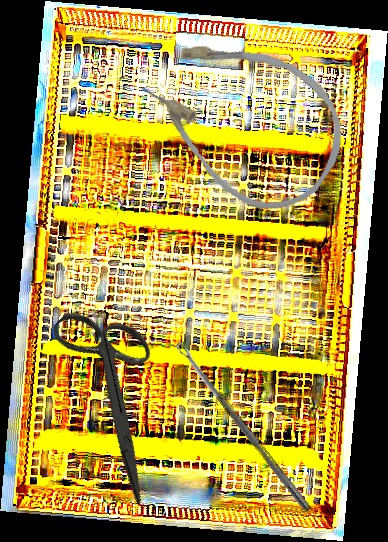Cannula: (120, 2, 368, 233)
Iris Scissors: (2, 286, 225, 506)
Surgical Spoon: (175, 340, 313, 513)
